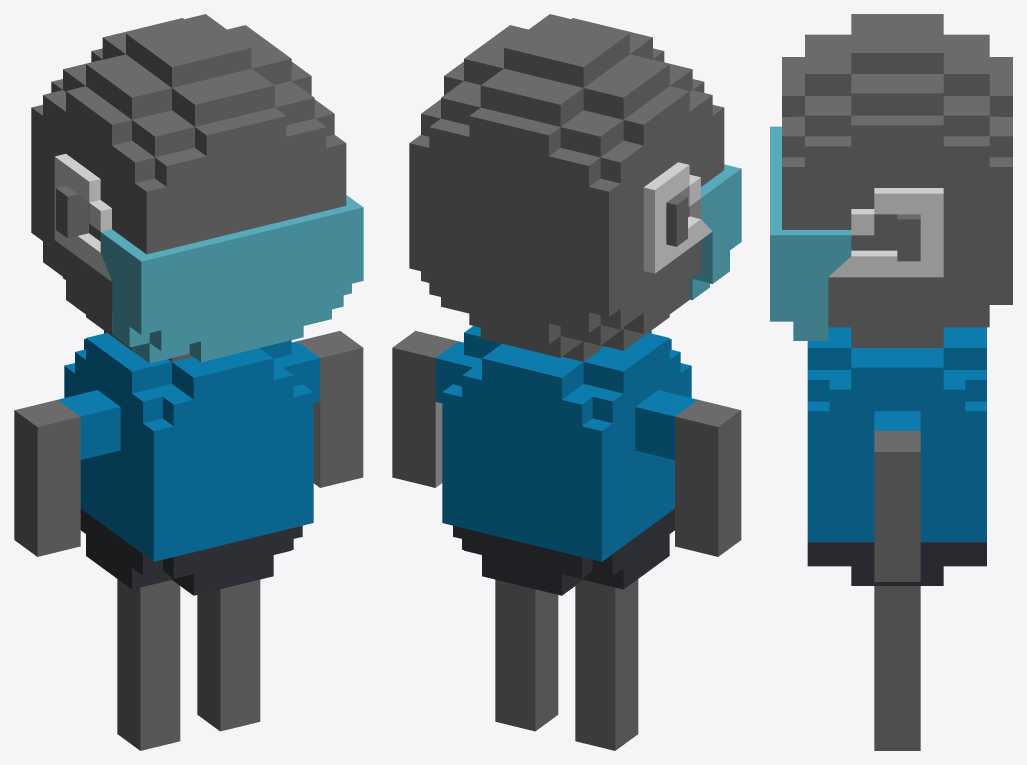
File: Customer3_Model.fbx
3 renders of one model, left to right at view 1: azimuth 30°, elevation 25°; view 2: azimuth 150°, elevation 25°; view 3: azimuth 270°, elevation 25°, orthographic.
Parts seen in each view (by area): view 1: Body_C3, Mask_C3, Leg_Right_C3, Arm_Right_C3, Leg_Left_C3, Arm_Left_C3; view 2: Body_C3, Leg_Right_C3, Arm_Right_C3, Leg_Left_C3, Mask_C3, Arm_Left_C3; view 3: Body_C3, Mask_C3, Leg_Left_C3, Arm_Left_C3.
Part boxes in pixels (bbox=[...]): Body_C3: bbox=[31, 14, 346, 595]; Mask_C3: bbox=[54, 153, 363, 363]; Leg_Right_C3: bbox=[117, 579, 180, 750]; Arm_Right_C3: bbox=[14, 400, 80, 556]; Leg_Left_C3: bbox=[197, 579, 260, 731]; Arm_Left_C3: bbox=[297, 331, 363, 487]; Body_C3: bbox=[409, 14, 724, 595]; Leg_Right_C3: bbox=[575, 579, 638, 750]; Arm_Right_C3: bbox=[675, 399, 741, 556]; Leg_Left_C3: bbox=[495, 579, 558, 731]; Mask_C3: bbox=[643, 162, 741, 299]; Arm_Left_C3: bbox=[392, 331, 457, 487]; Body_C3: bbox=[782, 14, 1012, 585]; Mask_C3: bbox=[770, 126, 943, 340]; Leg_Left_C3: bbox=[874, 586, 920, 750]; Arm_Left_C3: bbox=[874, 431, 920, 581].
Size of the model in its own units: 1.63 by 3.29 by 1.05.
